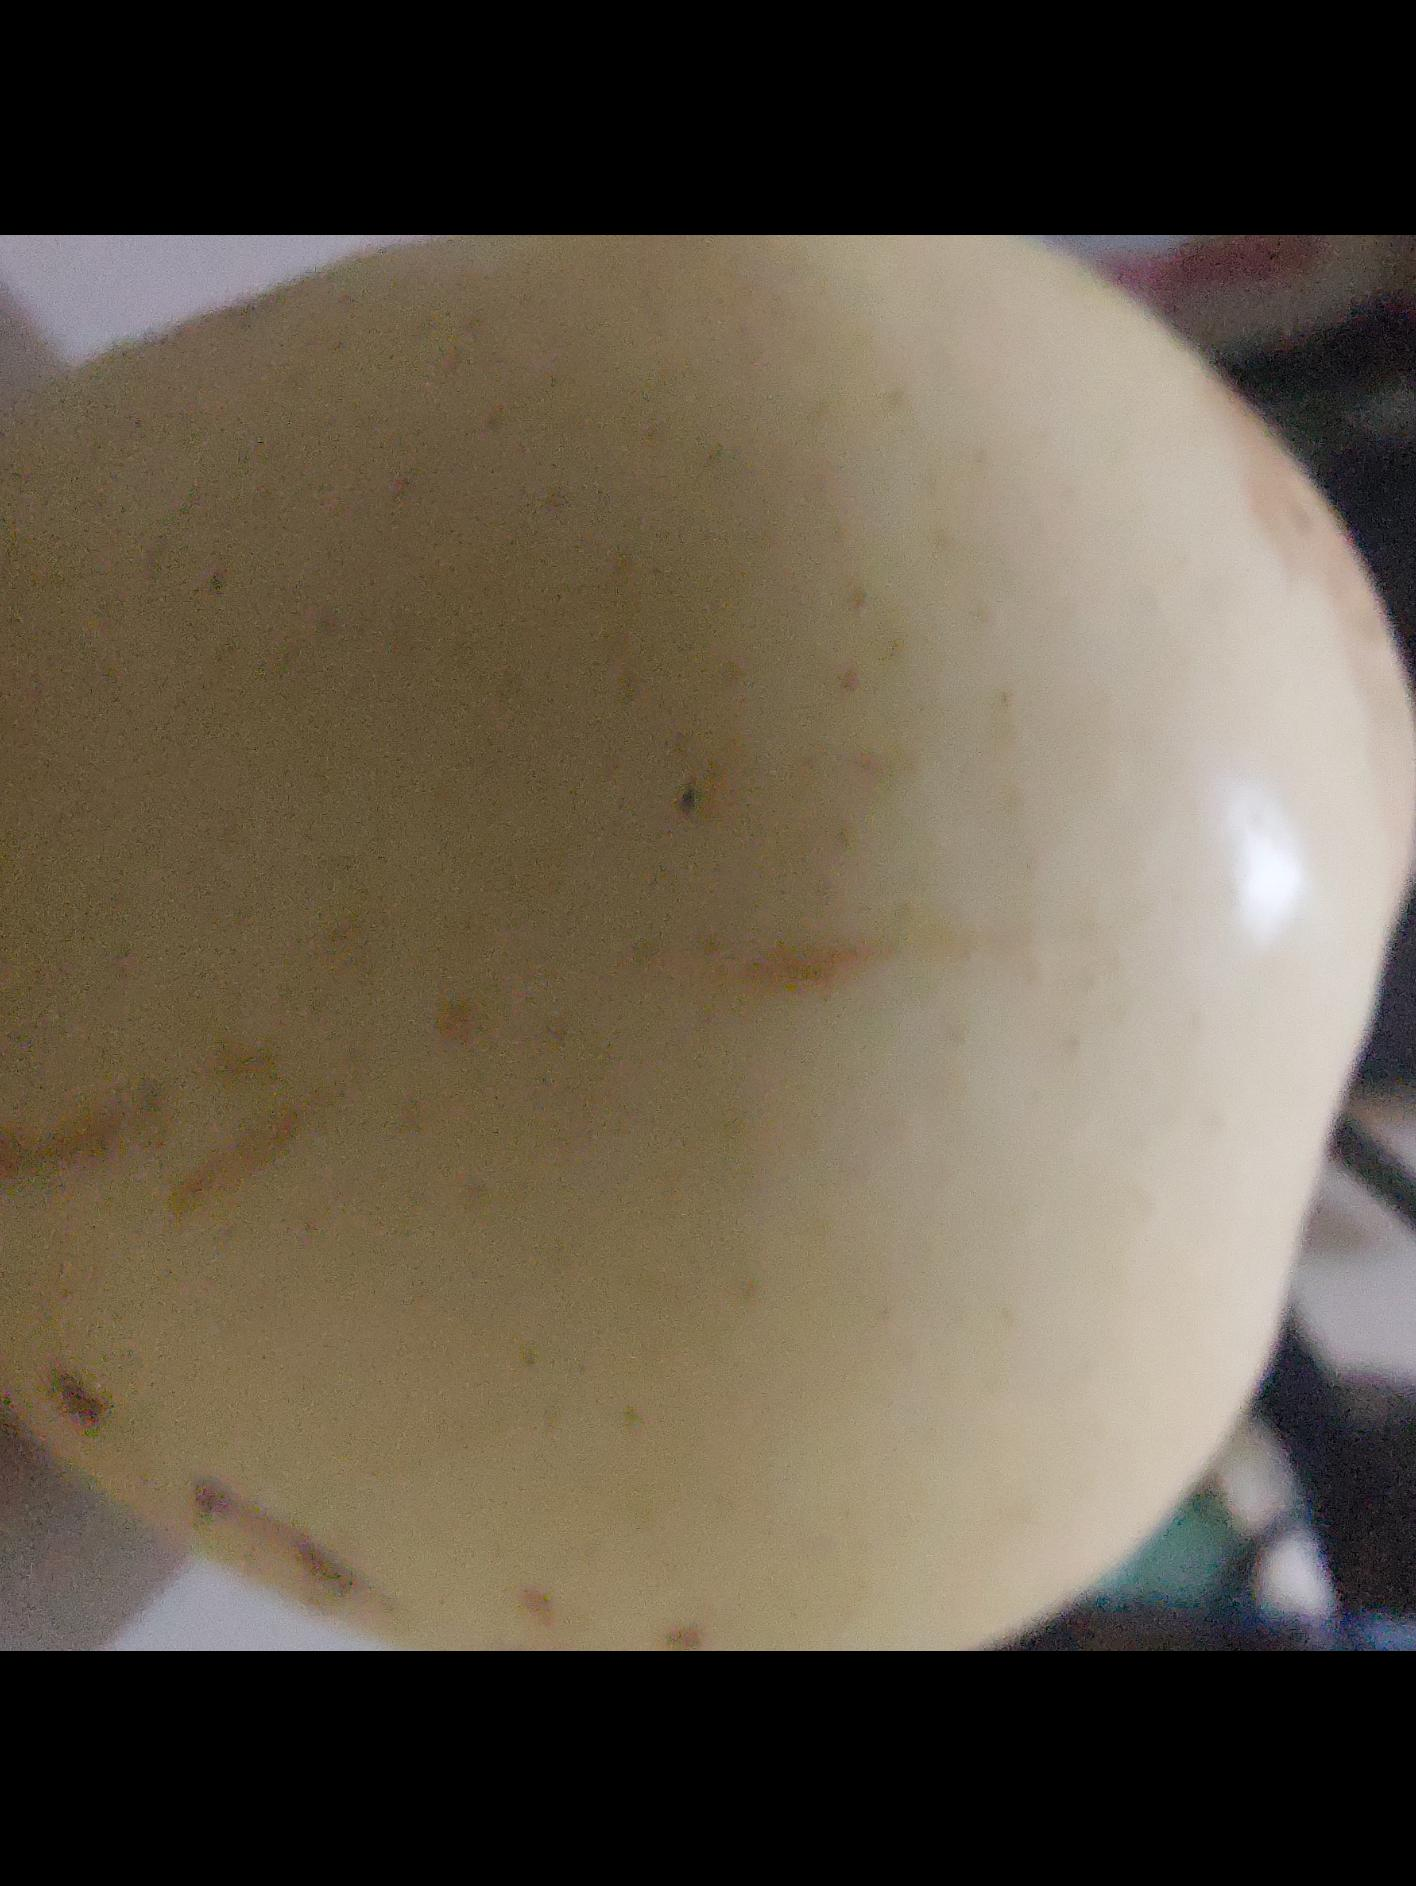Bad Pear: (0, 235, 1416, 1651)
